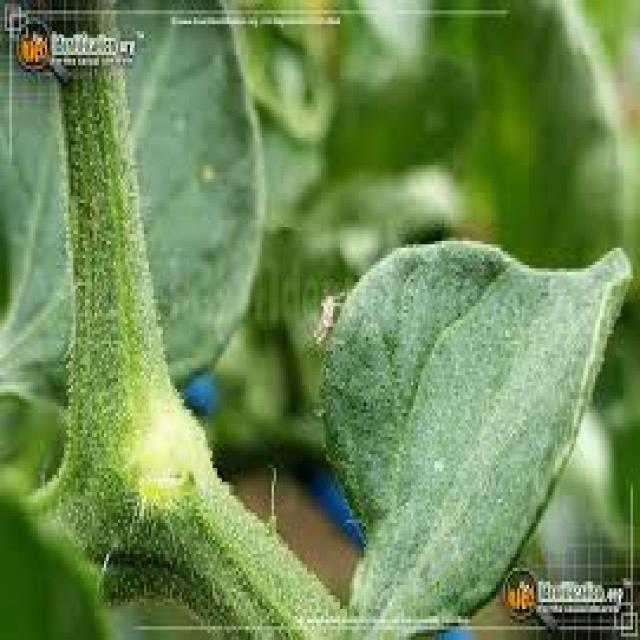aphid: (192, 151, 218, 193)
